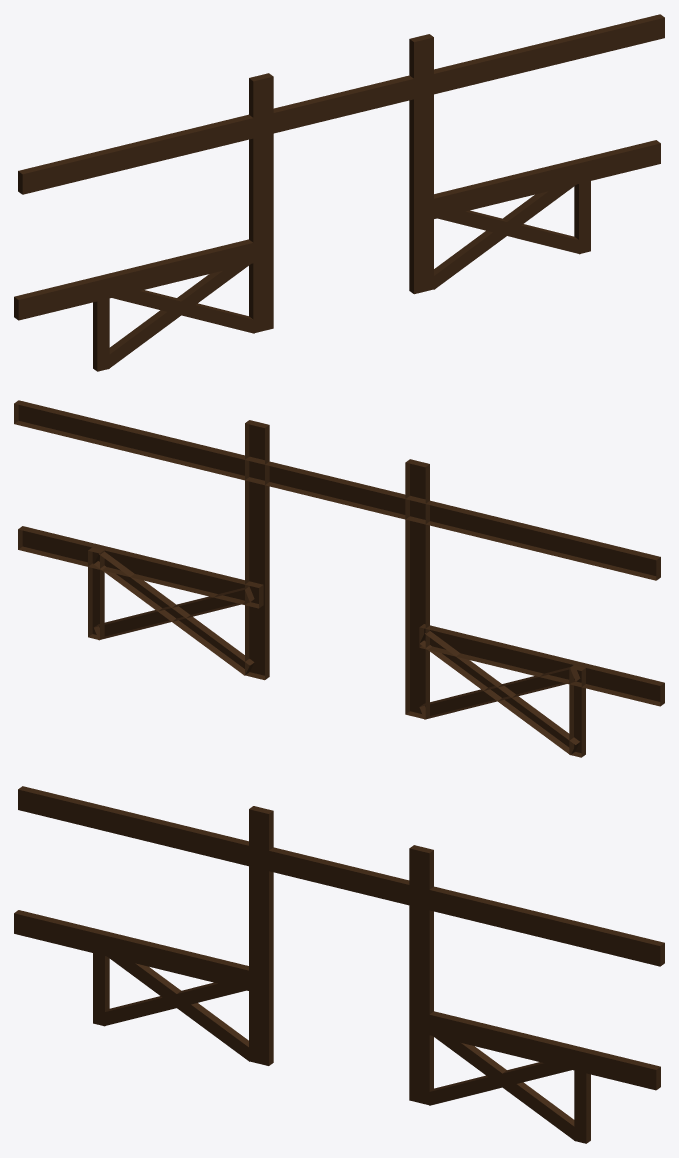
Rendered from Long Side Small Part 3 Door.fbx.
The picture shows the model from 3 angles, top to bottom: view 1: azimuth 30°, elevation 25°; view 2: azimuth 150°, elevation 25°; view 3: azimuth 330°, elevation 25°; orthographic projection.
Visible parts, largest first — view 1: House_Long_Side_3_Door1; view 2: House_Long_Side_3_Door1; view 3: House_Long_Side_3_Door1.
Part boxes in pixels (x1,y1,x2,y2): House_Long_Side_3_Door1: (14, 14, 664, 371); House_Long_Side_3_Door1: (14, 400, 664, 757); House_Long_Side_3_Door1: (14, 786, 664, 1143).
Size of the model in its own units: 8.05 by 3.01 by 0.1.
